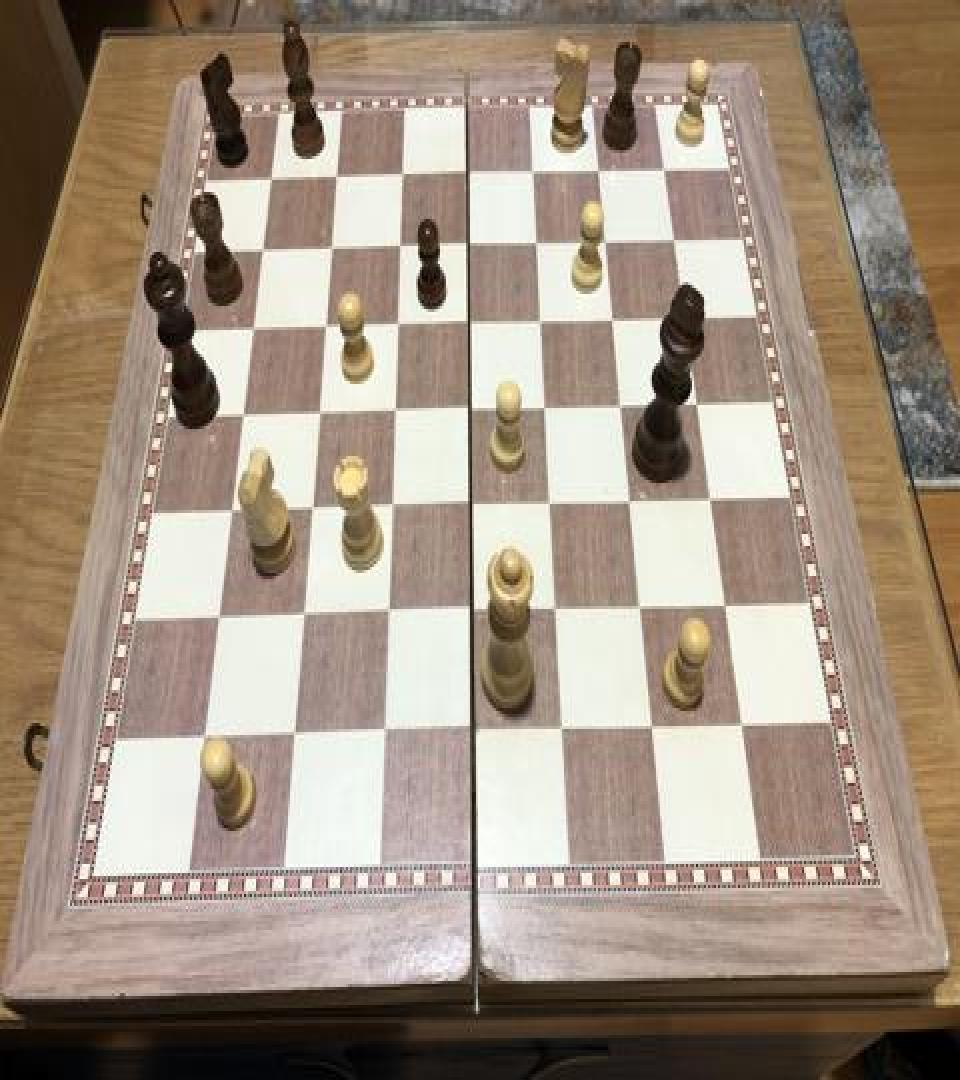xcorner: (733, 703, 757, 740), (657, 150, 681, 186), (591, 153, 615, 189), (525, 154, 549, 190), (459, 158, 483, 194), (393, 160, 417, 196), (327, 162, 351, 198), (261, 165, 285, 201), (666, 220, 690, 256), (597, 224, 621, 260), (528, 226, 552, 262), (459, 228, 483, 264), (390, 231, 414, 267), (321, 234, 345, 270), (252, 236, 276, 272), (677, 298, 701, 334), (605, 302, 629, 338), (532, 303, 556, 339), (460, 306, 484, 342), (387, 309, 411, 345), (315, 312, 339, 348), (243, 314, 267, 350), (689, 384, 713, 420), (613, 387, 637, 423), (536, 390, 560, 426), (460, 392, 484, 428), (384, 394, 408, 430), (308, 398, 332, 434), (232, 400, 256, 436), (702, 478, 726, 514), (622, 482, 646, 518), (541, 484, 565, 520), (461, 488, 485, 524), (380, 490, 404, 526), (300, 494, 324, 530), (220, 496, 244, 532), (717, 585, 741, 621), (632, 588, 656, 624), (546, 591, 570, 627), (461, 594, 485, 630), (376, 597, 400, 633), (291, 600, 315, 636), (206, 603, 230, 639), (643, 706, 667, 742), (552, 710, 576, 746), (462, 714, 486, 750), (372, 717, 396, 753), (281, 720, 305, 756), (191, 723, 215, 759)
